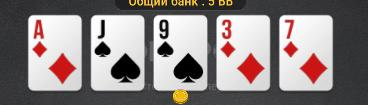3d: (218, 17, 269, 89)
7d: (281, 18, 332, 90)
9s: (155, 17, 206, 89)
Ad: (29, 17, 82, 90)
Js: (92, 17, 144, 91)
